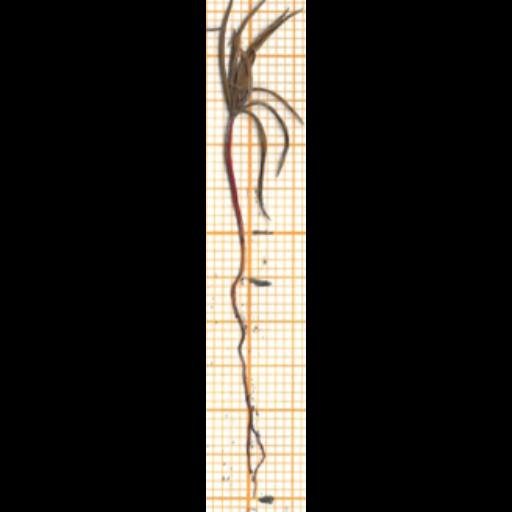flowerPinus: (219, 0, 299, 114)
rootPinus: (231, 279, 265, 497)
stemPinus: (227, 118, 245, 278)
